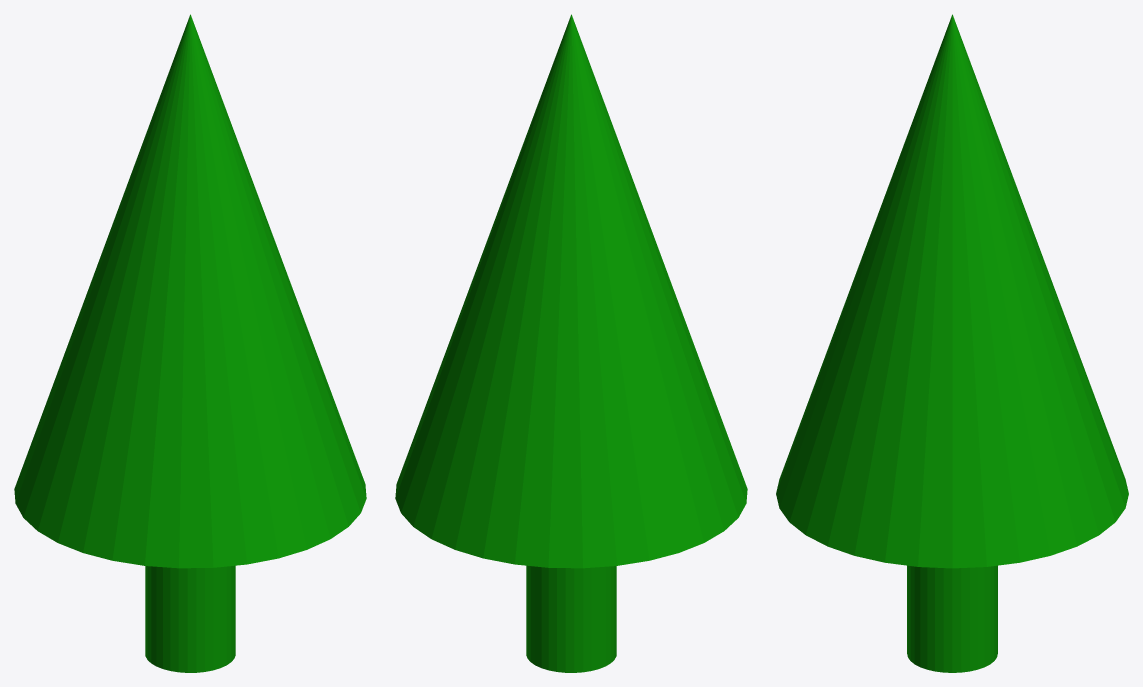
The model's file is tree.fbx.
3 views of the same model, side by side, from view 1: azimuth 30°, elevation 25°; view 2: azimuth 150°, elevation 25°; view 3: azimuth 270°, elevation 25° (orthographic).
Visible parts, largest first — view 1: Tree; view 2: Tree; view 3: Tree.
Boxes of the visible parts, x1,y1,x2,y2 form: Tree: (14,14,366,672); Tree: (395,14,747,672); Tree: (776,14,1128,672).
Bounding box in the file's own units: 200 × 400 × 200.
